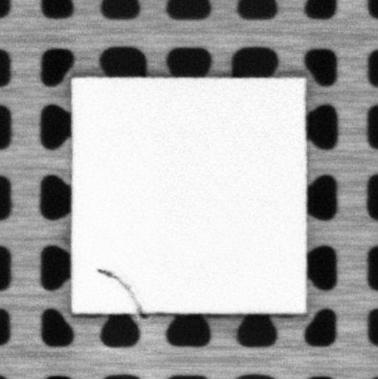DIE_INK: (97, 268, 143, 314)
